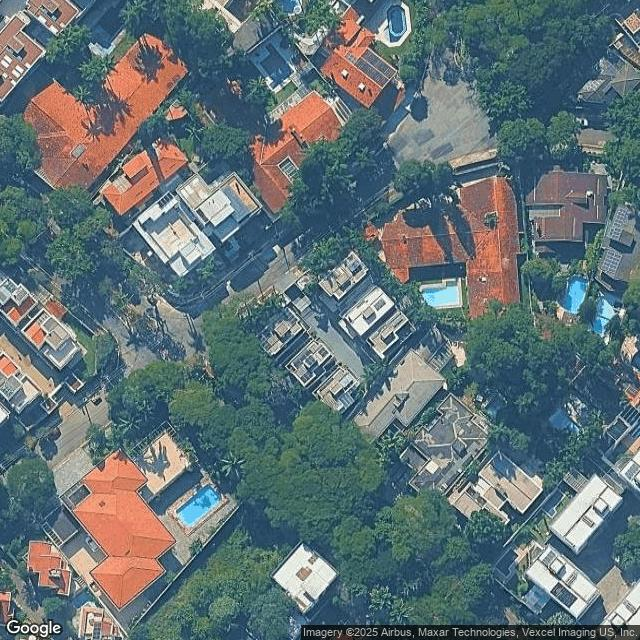pool: (106, 37, 121, 67), (439, 294, 452, 321), (399, 16, 409, 49), (196, 504, 207, 532), (572, 293, 584, 314), (275, 71, 284, 97), (284, 10, 294, 27), (605, 320, 610, 350), (563, 424, 569, 448)
